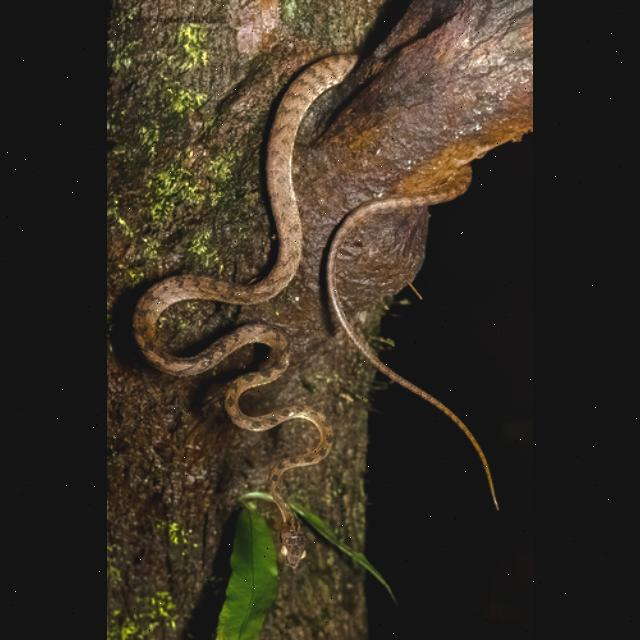snake: (137, 41, 469, 516)
